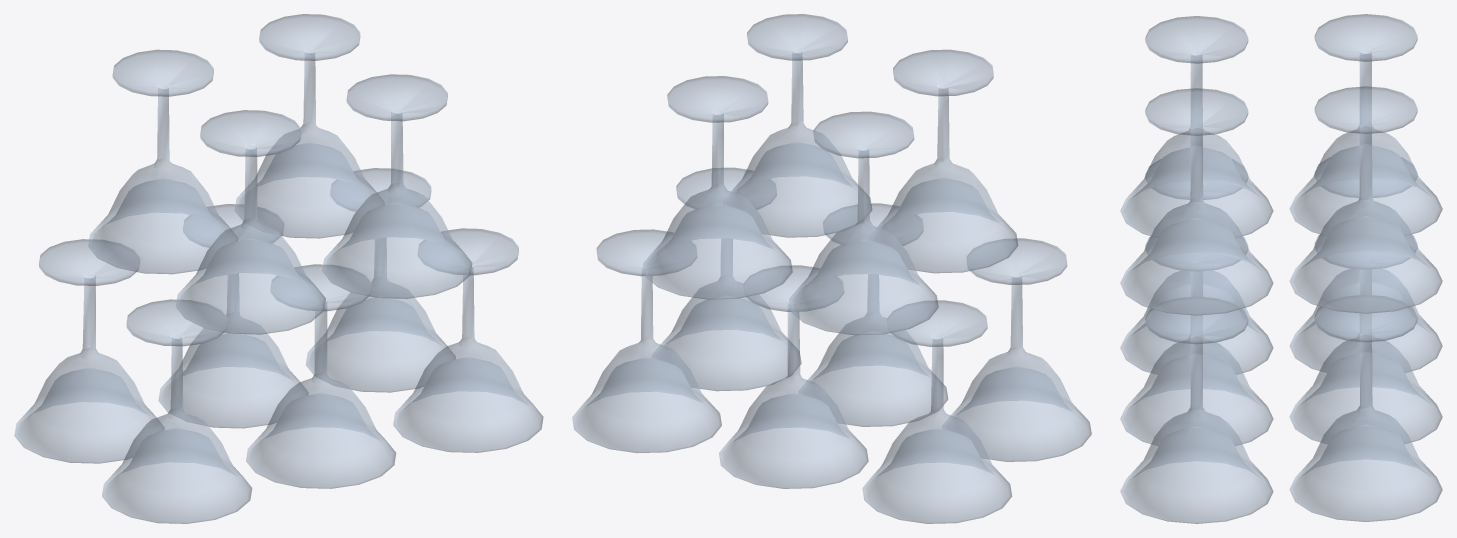
File: martini_3x2x2.gltf
3 views of the same model, side by side, from view 1: azimuth 30°, elevation 25°; view 2: azimuth 150°, elevation 25°; view 3: azimuth 270°, elevation 25° (orthographic).
Parts seen in each view (by area): view 1: defaultMaterial.053; view 2: defaultMaterial.053; view 3: defaultMaterial.053.
Boxes of the visible parts, x1,y1,x2,y2 form: defaultMaterial.053: (14, 14, 543, 523); defaultMaterial.053: (572, 14, 1091, 523); defaultMaterial.053: (1120, 14, 1442, 523).
Bounding box in the file's own units: 0.3014 × 0.2314 × 0.1953.
Materials: 1 (1 with a texture image).
